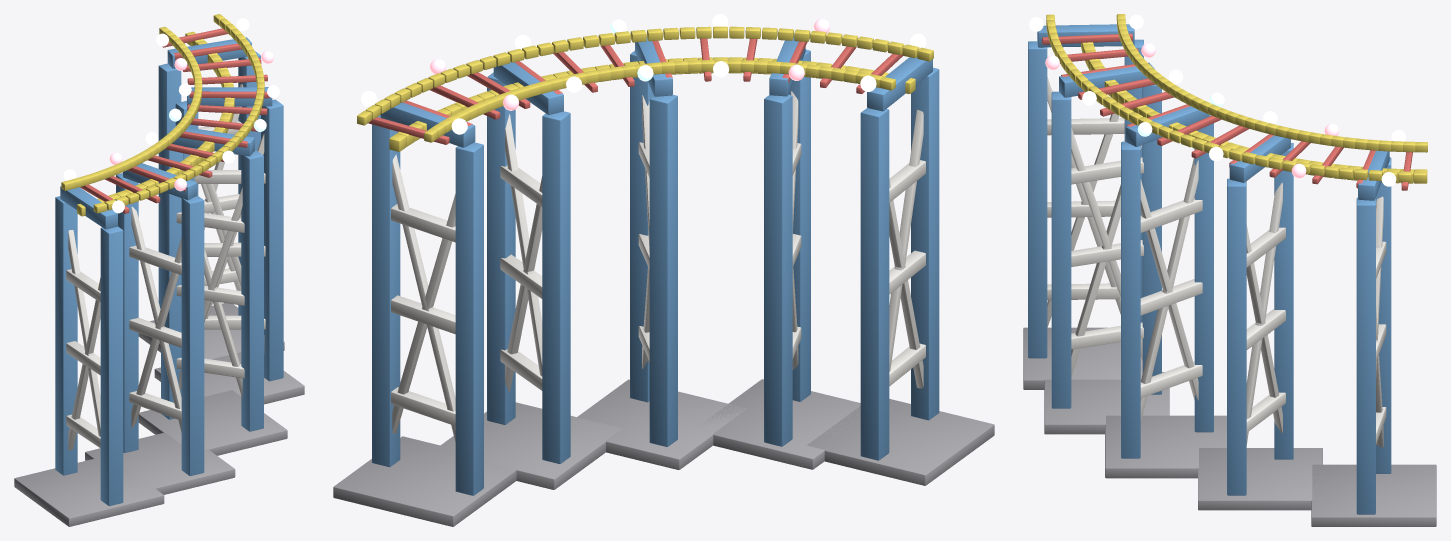
Rendered from th32_achterbahn_kurve.glb.
3 views of the same model, side by side, from view 1: azimuth 30°, elevation 25°; view 2: azimuth 150°, elevation 25°; view 3: azimuth 270°, elevation 25° (orthographic). The views are drawn at different scales.
Visible parts, largest first — view 1: Cube.171, Cube.162, Cube.153, Cube.144, Cube.169, Cube.170, Cube.160, Cube.151, Cube.161, Cube.152, Cube.142, Cube.134 (+36 smaller); view 2: Cube.170, Cube.152, Cube.161, Cube.143, Cube.134, Cube.135, Cube.133, Cube.169, Cube.171, Cube.144, Cube.151, Cube.142 (+23 smaller); view 3: Cube.133, Cube.162, Cube.142, Cube.135, Cube.144, Cube.153, Cube.171, Cube.151, Cube.152, Cube.143, Cube.160, Cube.161 (+32 smaller).
Boxes of the visible parts, x1,y1,x2,y2 form: Cube.171: [100, 226, 123, 506]; Cube.162: [181, 195, 204, 476]; Cube.153: [241, 150, 263, 431]; Cube.144: [261, 99, 283, 381]; Cube.169: [14, 457, 164, 526]; Cube.170: [55, 196, 77, 475]; Cube.160: [85, 432, 235, 494]; Cube.151: [138, 390, 287, 455]; Cube.161: [116, 173, 138, 452]; Cube.152: [161, 149, 183, 419]; Cube.142: [154, 352, 304, 404]; Cube.134: [158, 63, 181, 308]; Cube.170: [860, 108, 889, 460]; Cube.152: [649, 94, 677, 446]; Cube.161: [764, 94, 792, 446]; Cube.143: [542, 111, 570, 463]; Cube.134: [455, 142, 483, 495]; Cube.135: [372, 115, 400, 467]; Cube.133: [333, 436, 516, 526]; Cube.169: [807, 399, 994, 485]; Cube.171: [911, 67, 939, 420]; Cube.144: [487, 72, 515, 424]; Cube.151: [574, 379, 746, 469]; Cube.142: [436, 402, 621, 489]; Cube.133: [1311, 464, 1436, 526]; Cube.162: [1051, 91, 1071, 408]; Cube.142: [1198, 448, 1322, 510]; Cube.135: [1356, 197, 1375, 514]; Cube.144: [1227, 178, 1246, 495]; Cube.153: [1121, 141, 1140, 458]; Cube.171: [1028, 41, 1047, 358]; Cube.151: [1105, 415, 1226, 478]; Cube.152: [1194, 115, 1213, 432]; Cube.143: [1274, 143, 1293, 459]; Cube.160: [1044, 372, 1169, 434]; Cube.161: [1142, 84, 1161, 394].
Size of the model in its own units: 7.89 by 6.79 by 7.26.
